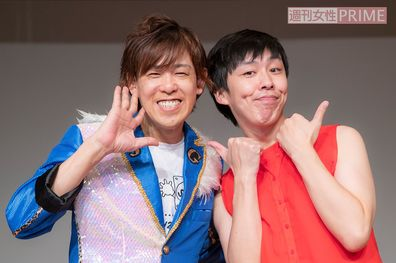face: (129, 48, 207, 128), (215, 46, 288, 127)
hand: (99, 86, 160, 152), (276, 99, 330, 156), (207, 136, 260, 180)
